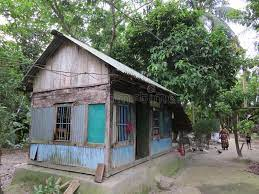Tin-shade House: (12, 31, 192, 170)
